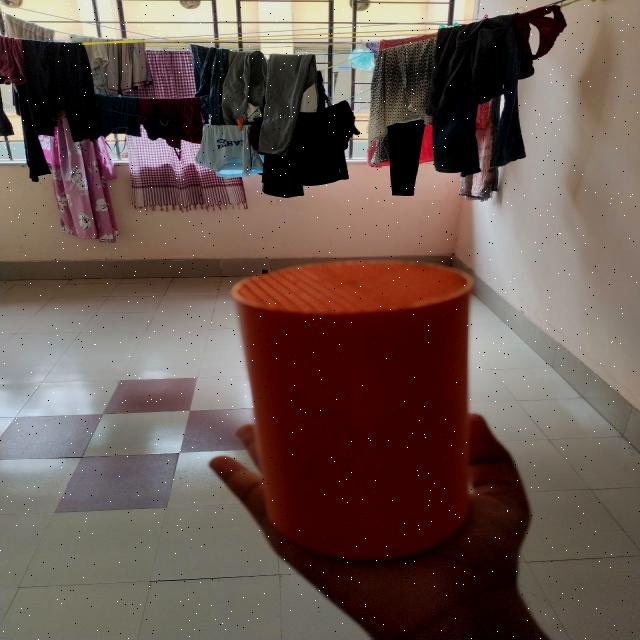Cylinder: (231, 258, 476, 561)
